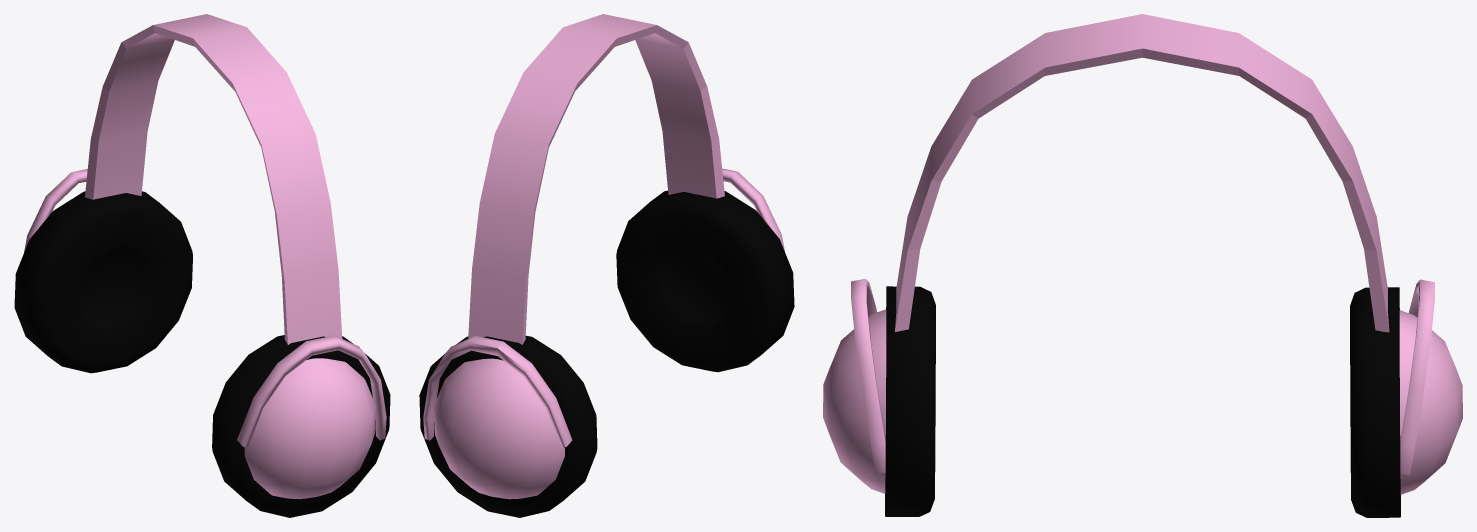
File: SM_Hadphone.fbx
The picture shows the model from 3 angles, left to right: view 1: azimuth 30°, elevation 25°; view 2: azimuth 150°, elevation 25°; view 3: azimuth 270°, elevation 25°; orthographic projection. The views are drawn at different scales.
Parts seen in each view (by area): view 1: SM_Hadphone; view 2: SM_Hadphone; view 3: SM_Hadphone.
Boxes of the visible parts, x1,y1,x2,y2 form: SM_Hadphone: (14,14,390,517); SM_Hadphone: (419,14,794,517); SM_Hadphone: (823,14,1462,517).
Bounding box in the file's own units: 11.51 × 32.14 × 26.98.
1 material, 1 textured.
